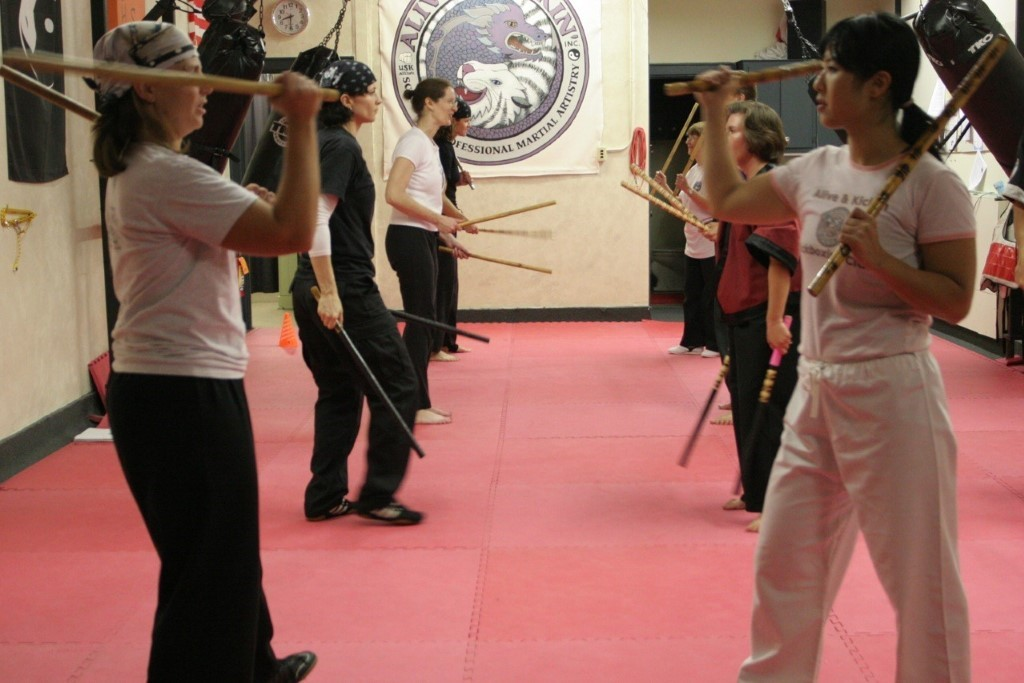baston_e: (814, 49, 1000, 278), (311, 291, 422, 449), (15, 49, 329, 101), (734, 322, 792, 486), (673, 55, 815, 97), (678, 354, 735, 456), (3, 64, 88, 122), (626, 180, 705, 233), (387, 305, 484, 344), (442, 246, 547, 275), (636, 164, 692, 217), (656, 105, 695, 179), (460, 201, 553, 230), (686, 131, 703, 175)
baston_v: (659, 78, 681, 103), (326, 82, 345, 106), (995, 28, 1014, 52), (803, 279, 824, 298), (674, 456, 689, 469), (417, 447, 430, 462), (671, 184, 683, 197), (782, 311, 793, 323), (648, 186, 659, 198), (729, 487, 742, 497), (483, 333, 493, 346), (628, 160, 637, 174), (544, 267, 555, 278), (308, 284, 319, 295), (619, 177, 627, 189), (692, 98, 700, 108), (550, 197, 559, 205), (436, 243, 444, 252)
